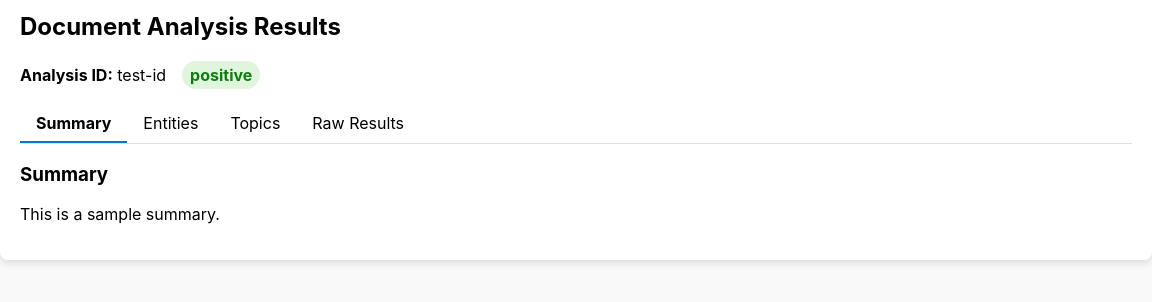
Scenario: AnalysisResults Component › displays analysis results correctly
The width and height of the screenshot is (1152, 302).
Expected: the text "This is a sample summary." is shown, left=20, top=204, right=220, bottom=224
// Check that we can switch tabs
Click the text "Entities": (171, 123) left=143, top=113, right=198, bottom=133
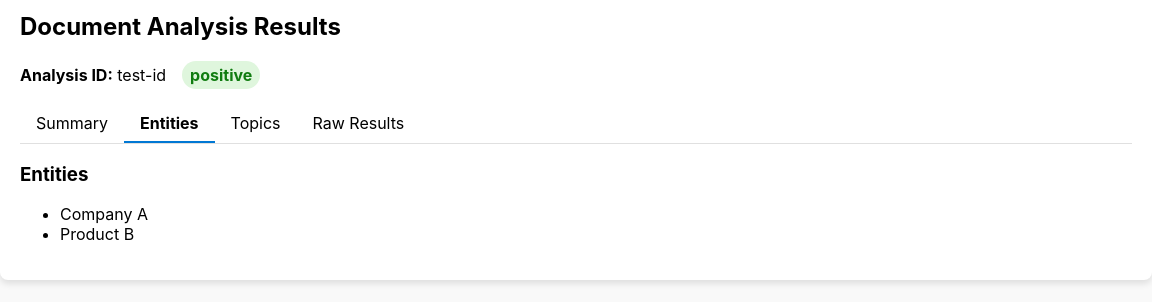
Expected: the list item "Company A" is shown, left=60, top=204, right=148, bottom=224
Expected: the list item "Product B" is shown, left=60, top=224, right=134, bottom=244
Click the text "Topics": (256, 123) left=231, top=113, right=280, bottom=133
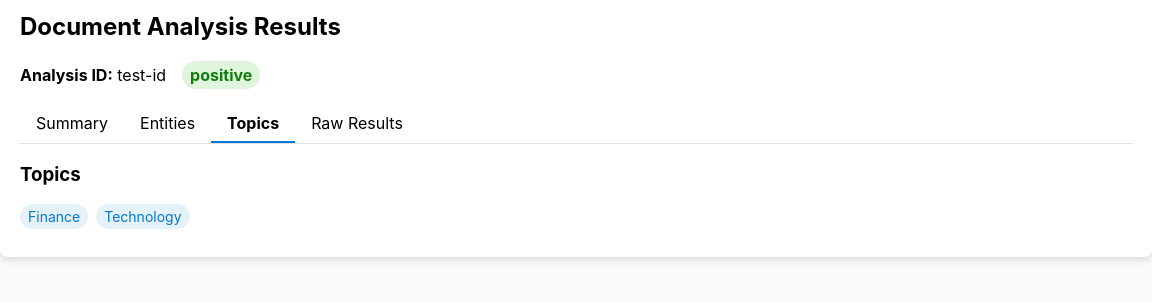
Expected: the text "Finance" is shown, left=20, top=204, right=88, bottom=229
Expected: the text "Technology" is shown, left=96, top=204, right=190, bottom=229
